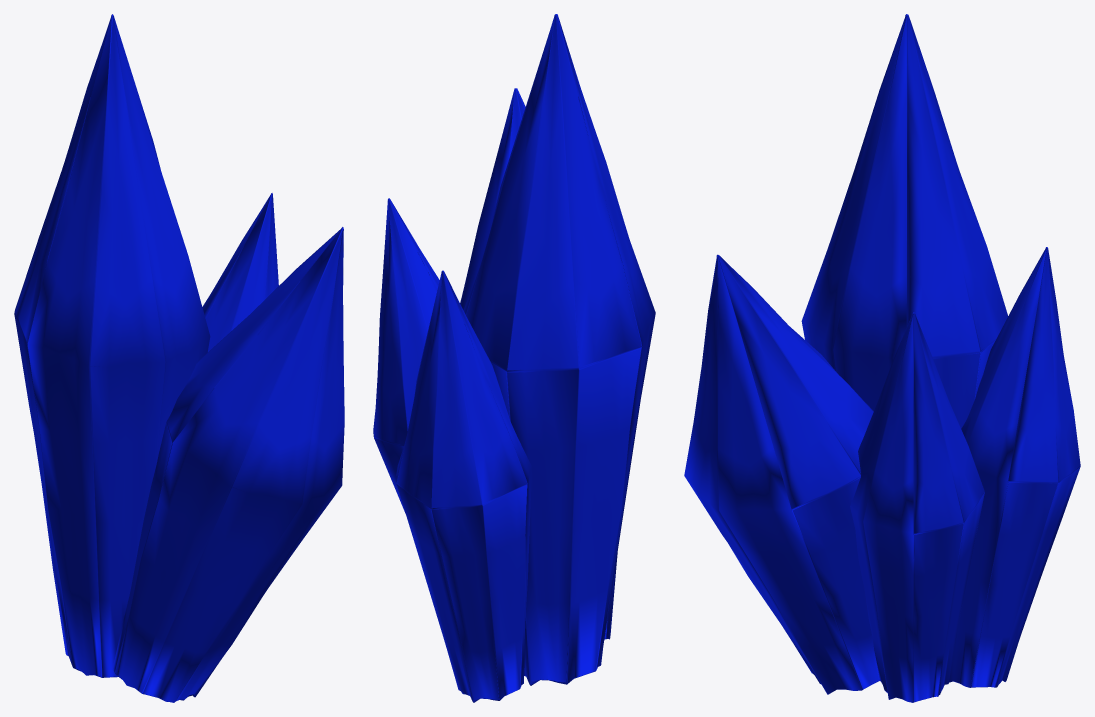
The model's file is YellowCrystal.fbx.
The picture shows the model from 3 angles, left to right: view 1: azimuth 30°, elevation 25°; view 2: azimuth 150°, elevation 25°; view 3: azimuth 270°, elevation 25°; orthographic projection.
Parts seen in each view (by area): view 1: Crystal_Middle, Crystal_Middle.001, Crystal_Middle.004; view 2: Crystal_Middle, Crystal_Middle.002, Crystal_Middle.004, Crystal_Middle.001; view 3: Crystal_Middle.001, Crystal_Middle, Crystal_Middle.004, Crystal_Middle.002.
Part boxes in pixels (<box>): Crystal_Middle: <box>14,14,210,677</box>; Crystal_Middle.001: <box>113,227,344,702</box>; Crystal_Middle.004: <box>202,193,278,351</box>; Crystal_Middle: <box>463,14,655,685</box>; Crystal_Middle.002: <box>396,270,531,702</box>; Crystal_Middle.004: <box>373,198,439,513</box>; Crystal_Middle.001: <box>460,88,617,639</box>; Crystal_Middle.001: <box>684,254,879,694</box>; Crystal_Middle: <box>801,14,1008,428</box>; Crystal_Middle.004: <box>850,312,984,702</box>; Crystal_Middle.002: <box>949,247,1080,687</box>.
Bounding box in the file's own units: 166 × 412 × 224.
